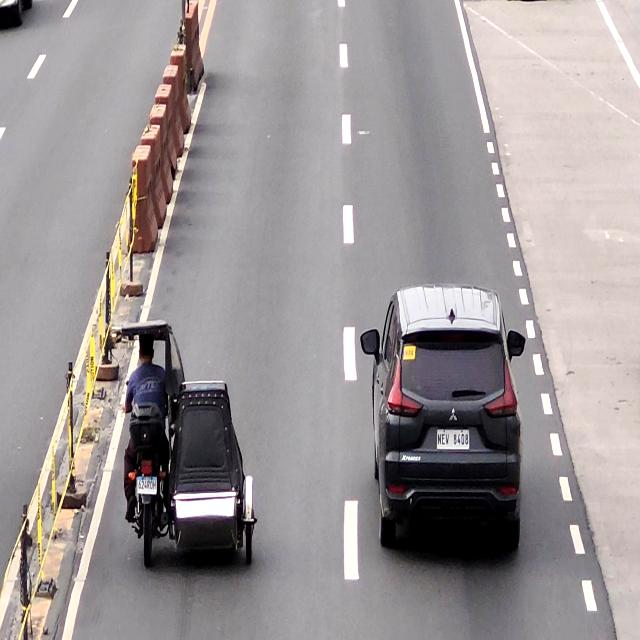Car: (361, 284, 526, 556)
License-Plate: (436, 429, 470, 450), (136, 476, 157, 495)
Tricycle: (120, 318, 256, 565)
